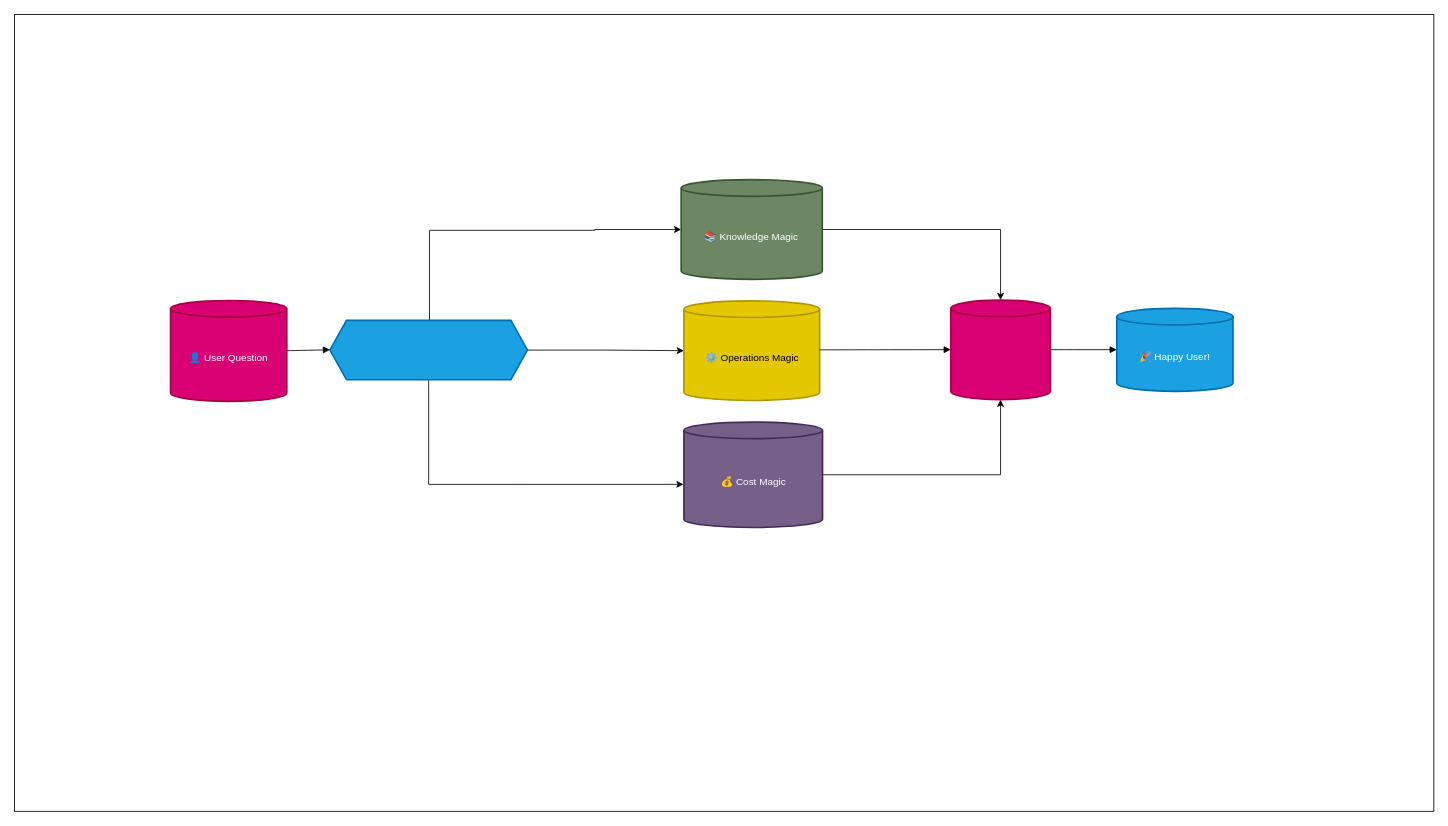
This 1448x826 diagram has some shape labels left out. Here are the shapes that lost their labels. From the top down, the centre of each, then its label:
the point at 428,349: 🦸♂️ AI Platform Assistant
the point at 1000,349: ✨ Answer
